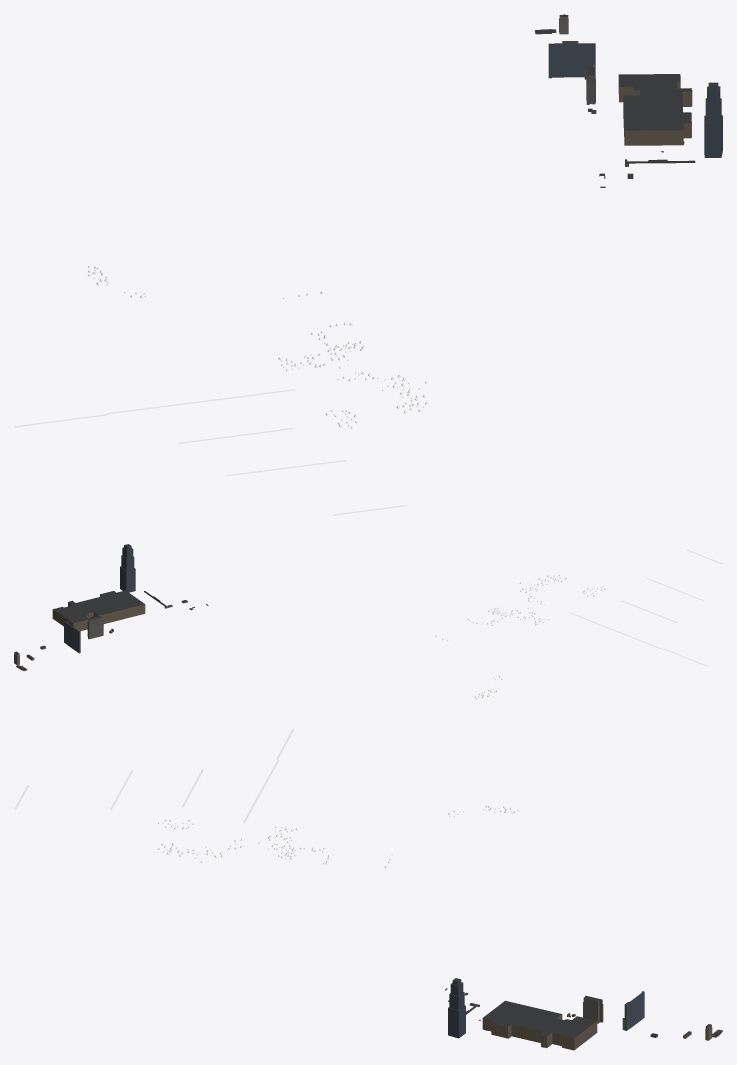
The model's file is manhattan_-03_-02.glb.
The picture shows the model from 3 angles, top to bottom: view 1: azimuth 30°, elevation 25°; view 2: azimuth 150°, elevation 25°; view 3: azimuth 270°, elevation 25°; orthographic projection. The views are drawn at different scales.
Parts seen in each view (by area): view 1: BLD_midrise_-03_-02, BLD_towers_-03_-02, ROAD_-03_-02, TREE_-03_-02; view 2: BLD_midrise_-03_-02, BLD_towers_-03_-02, ROAD_-03_-02, TREE_-03_-02; view 3: BLD_midrise_-03_-02, BLD_towers_-03_-02, TREE_-03_-02, ROAD_-03_-02.
Boxes of the visible parts, box(x1,y1,x2,y2) form: BLD_midrise_-03_-02: box(559, 14, 692, 145); BLD_towers_-03_-02: box(548, 43, 722, 157); ROAD_-03_-02: box(14, 389, 404, 515); TREE_-03_-02: box(88, 265, 428, 428); BLD_midrise_-03_-02: box(14, 590, 145, 665); BLD_towers_-03_-02: box(64, 544, 135, 653); ROAD_-03_-02: box(570, 549, 722, 666); TREE_-03_-02: box(435, 575, 605, 699); BLD_midrise_-03_-02: box(482, 1000, 712, 1050); BLD_towers_-03_-02: box(448, 978, 644, 1038); TREE_-03_-02: box(158, 805, 519, 867); ROAD_-03_-02: box(14, 728, 294, 823).
Bounding box in the file's own units: 3217 × 254 × 2993.
